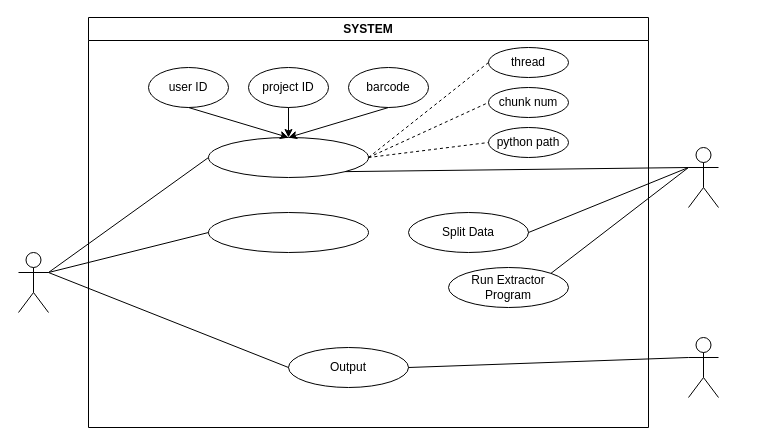
This 766x445 diagram has some shape labels left out. The centre of each missing label's shape, as x and y in pixels:
Extractor.py: the point at 703,367
Input Data: the point at 288,232
Input Option: the point at 288,157
Run_extractor.py: the point at 703,177
USER: the point at 33,282
